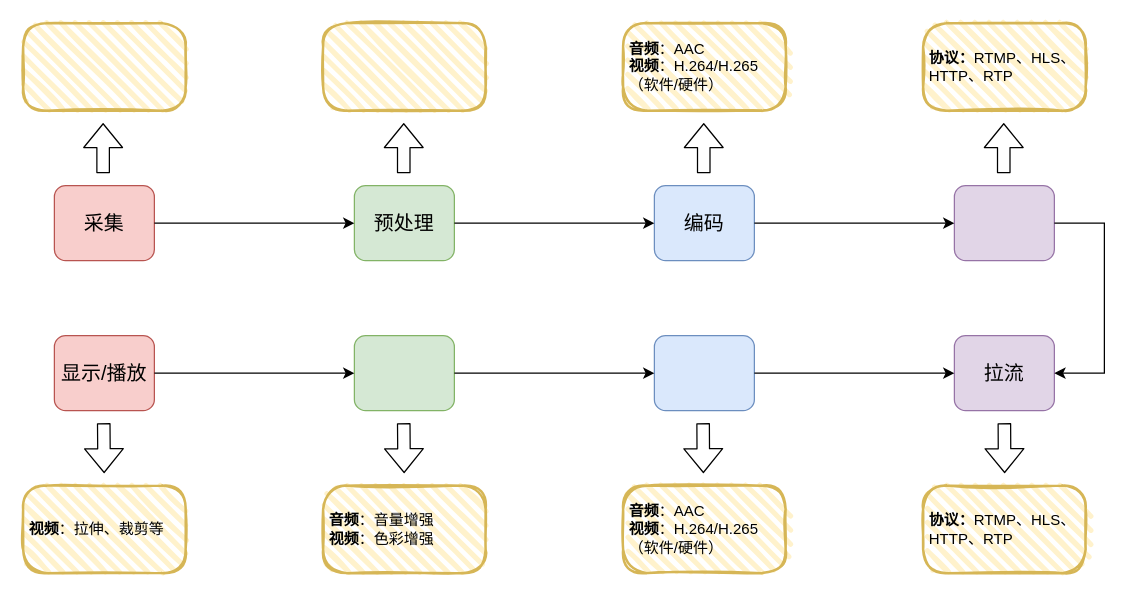
This 1136x595 diagram has some shape labels left out. The centre of each missing label's shape, as x and y in pixels:
后处理: the point at 403,372
推流: the point at 1003,222
解码: the point at 703,372
音频 ：降噪、回声抑制、混音 视频 ：美颜滤镜、水印: the point at 403,66
音频 ：麦克风、声卡 视频 ：摄像头、桌面: the point at 103,66
